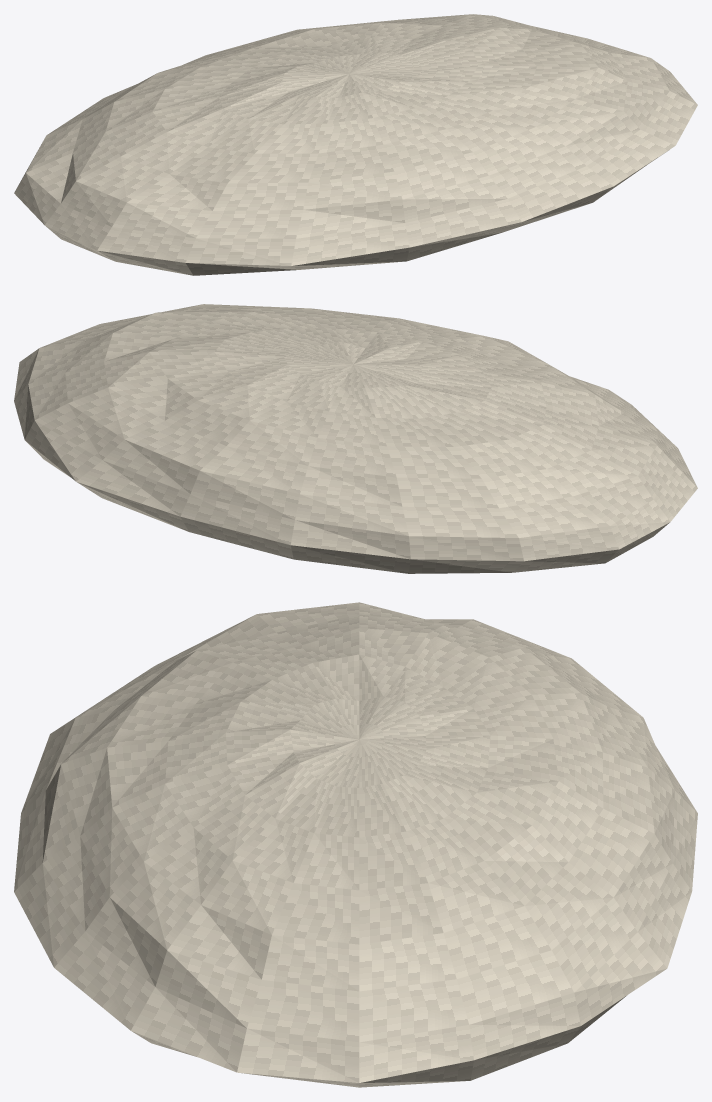
Rendered from cave-and-crystal-networks-moonmilk-98ec7635.glb.
3 renders of one model, top to bottom at view 1: azimuth 30°, elevation 25°; view 2: azimuth 150°, elevation 25°; view 3: azimuth 270°, elevation 25°, orthographic. The views are drawn at different scales.
Parts seen in each view (by area): view 1: moonmilk; view 2: moonmilk; view 3: moonmilk.
Part boxes in pixels (x1,y1,x2,y2): moonmilk: (14, 14, 697, 275); moonmilk: (14, 304, 697, 573); moonmilk: (14, 602, 697, 1087).
Size of the model in its own units: 1.36 by 0.201 by 0.8724.
1 material, 1 textured.
